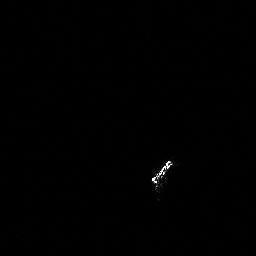ship: (148, 153, 179, 188)
